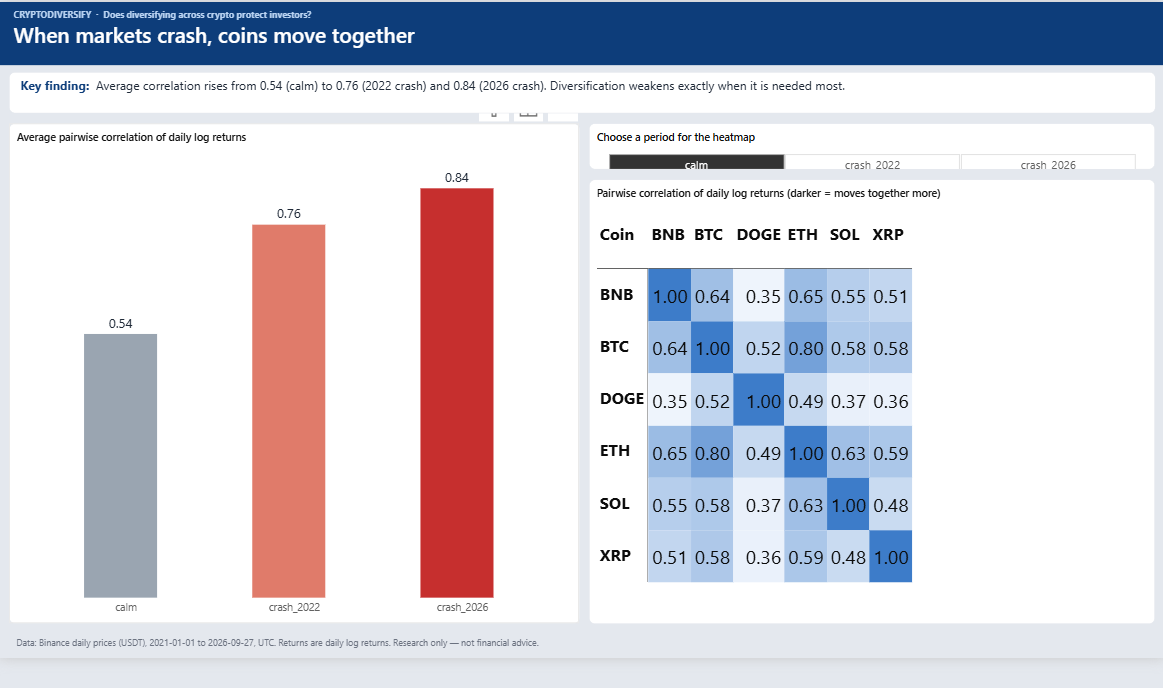

Layout of this report page (visuals, bound fields, positions):
{"tool":"powerbi","page":{"name":"Crash Correlation","canvas":[1920,1080],"ordinal":1},"visuals":[{"type":"clusteredColumnChart","title":"Average pairwise correlation of daily log returns","fields":{"Category":["correlation_avg_by_period.period"],"Y":["Sum(correlation_avg_by_period.avg_pairwise_correlation)"]},"box":[16,200,940,824],"z":0},{"type":"pivotTable","title":"Pairwise correlation of daily log returns (darker = moves together more)","fields":{"Columns":["correlation_by_period.coin_2"],"Rows":["correlation_by_period.coin_1"],"Values":["Avg(correlation_by_period.correlation)"]},"box":[972,292,932,732],"z":1000},{"type":"slicer","title":"Choose a period for the heatmap","fields":{"Values":["correlation_by_period.period"]},"box":[972,200,932,76],"z":2000},{"type":"textbox","box":[0,0,1920,104],"z":5000},{"type":"textbox","box":[16,116,1888,68],"z":5001},{"type":"textbox","box":[16,1034,1888,40],"z":5002}]}

Visuals, with their boxes on the page's 1920x1080 design canvas (x1, y1, x2, y2). These are canvas units, not pixel positions in the 1163x688 screenshot, which may show the page scaled, cropped or inside an application window:
"Average pairwise correlation of daily log returns" clusteredColumnChart: 16 200 956 1024
"Pairwise correlation of daily log returns (darker = moves together more)" pivotTable: 972 292 1904 1024
"Choose a period for the heatmap" slicer: 972 200 1904 276
textbox: 0 0 1920 104
textbox: 16 116 1904 184
textbox: 16 1034 1904 1074
